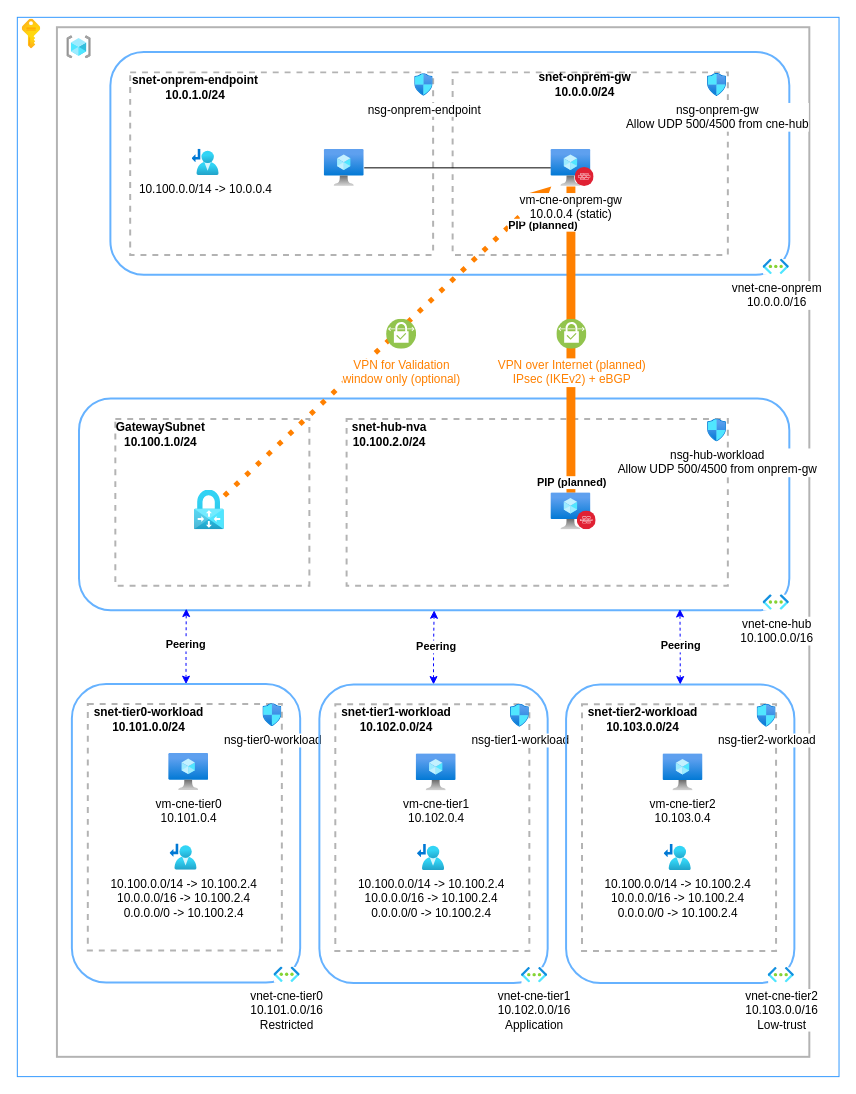
The diagram is 856 pixels wide and 1094 high, and some of its shapes have lost their labels. The box of each missing label's shape, as (x1, y1, x2, y2) in pixels:
CNE: (22, 19, 40, 48)
rg-cne-lab: (66, 35, 91, 58)
vgw-cne-hub (Temporary): (194, 490, 224, 529)
vm-cne-hub 10.100.2.4 (static): (550, 492, 590, 529)
vm-cne-onprem-endpoint (Planned: Client VM) 10.0.1.4: (324, 149, 364, 186)
